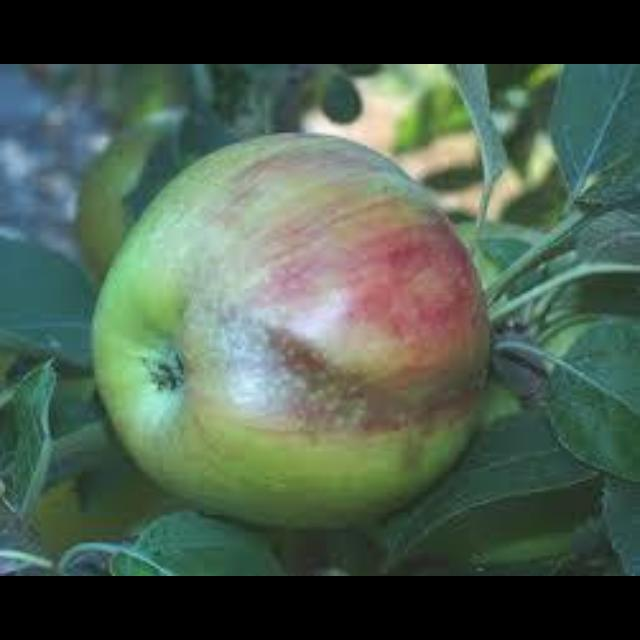apple: (92, 133, 490, 528)
bruise: (220, 322, 478, 478)
